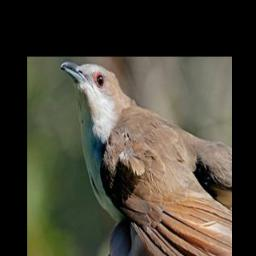Cuckoo: (60, 62, 232, 256)
